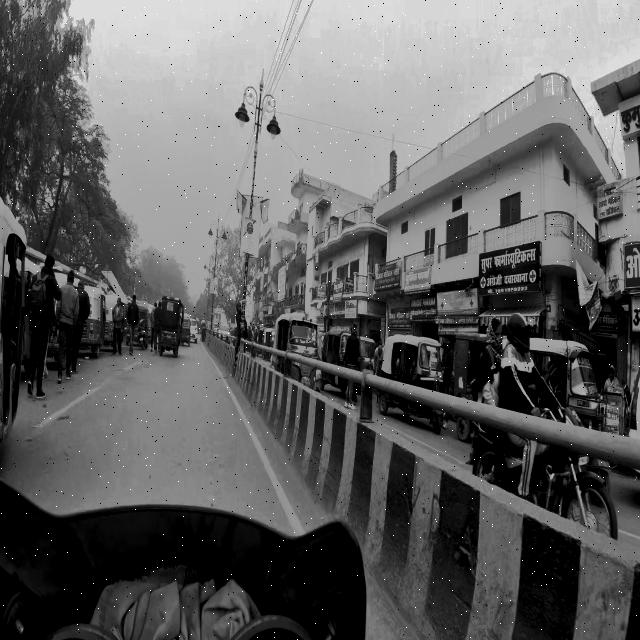Auto-Rickshaw: (377, 324, 448, 440), (0, 197, 30, 448), (532, 334, 607, 426), (271, 308, 325, 389), (82, 281, 107, 364)
Bike: (456, 338, 626, 547)
Toto: (156, 291, 183, 364)
